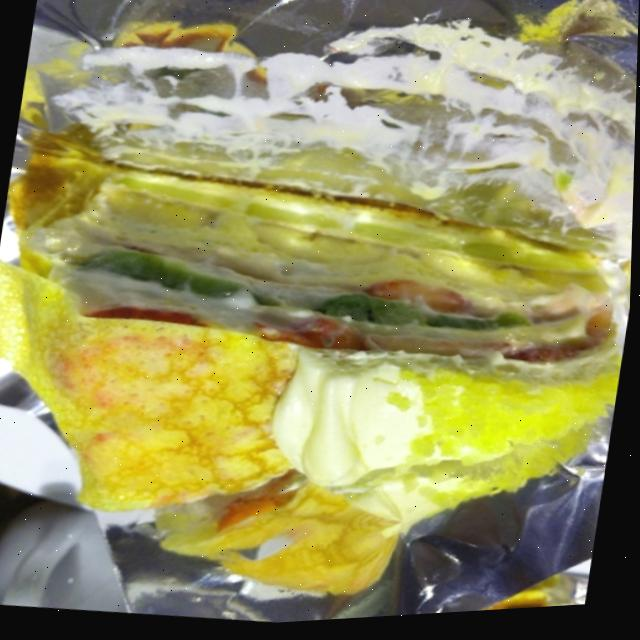猪肉菜式: (105, 27, 569, 507)
